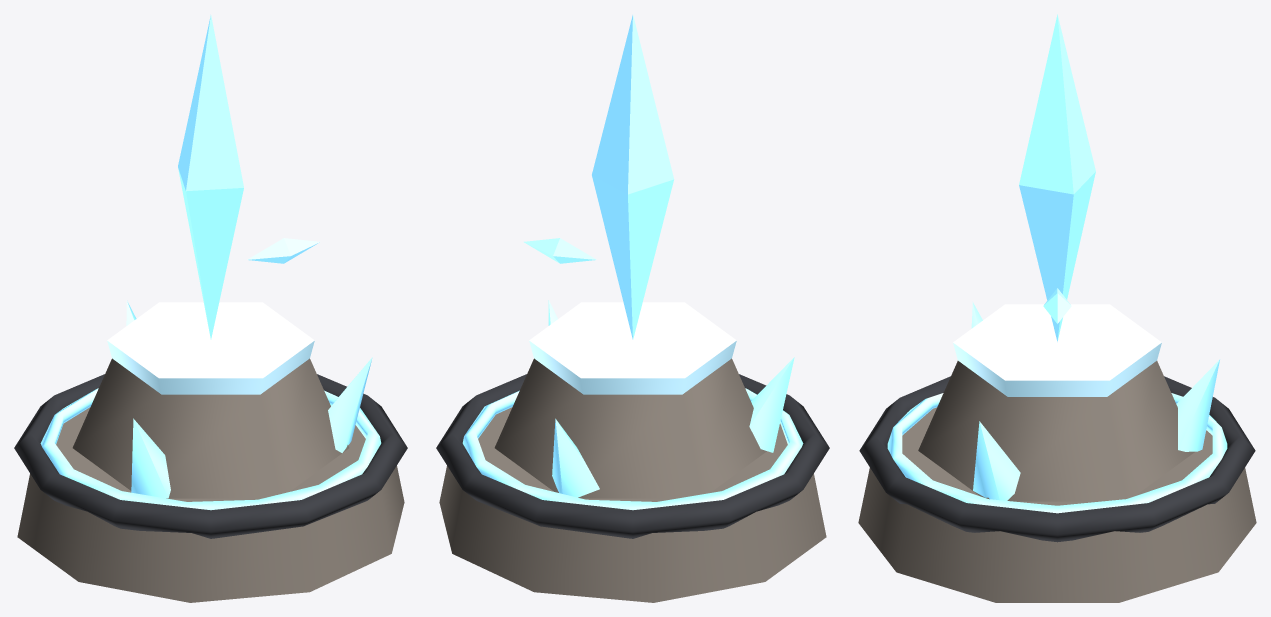
Rendered from tower_freeze.glb.
The picture shows the model from 3 angles, left to right: view 1: azimuth 30°, elevation 25°; view 2: azimuth 150°, elevation 25°; view 3: azimuth 270°, elevation 25°; orthographic projection.
Visible parts, largest first — view 1: base, pedestal, pedestal_frost, base_rim, crystal, aura_ring, side_crystal_1, side_crystal_0, emitter; view 2: base, pedestal, pedestal_frost, base_rim, crystal, aura_ring, side_crystal_1, side_crystal_2, emitter; view 3: base, pedestal, pedestal_frost, base_rim, crystal, aura_ring, side_crystal_0, side_crystal_2, emitter.
Part boxes in pixels (x1,y1,x2,y2): base: (17,407,404,602); pedestal: (72,358,349,498); pedestal_frost: (107,302,314,394); base_rim: (14,374,407,538); crystal: (178,15,243,339); aura_ring: (40,388,381,510); side_crystal_1: (131,418,170,498); side_crystal_0: (328,357,372,452); emitter: (247,238,319,263); base: (439,407,826,602); pedestal: (494,358,766,498); pedestal_frost: (529,302,736,394); base_rim: (436,374,829,538); crystal: (592,15,674,339); aura_ring: (462,388,803,510); side_crystal_1: (749,357,794,452); side_crystal_2: (552,418,599,497); emitter: (524,238,596,263); base: (858,407,1256,602); pedestal: (918,361,1194,501); pedestal_frost: (953,304,1161,396); base_rim: (859,376,1255,542); crystal: (1019,14,1095,341); aura_ring: (887,393,1227,513); side_crystal_0: (973,421,1020,500); side_crystal_2: (1176,359,1219,451); emitter: (1043,288,1071,323).
Bounding box in the file's own units: 0.398 × 0.564 × 0.4.
